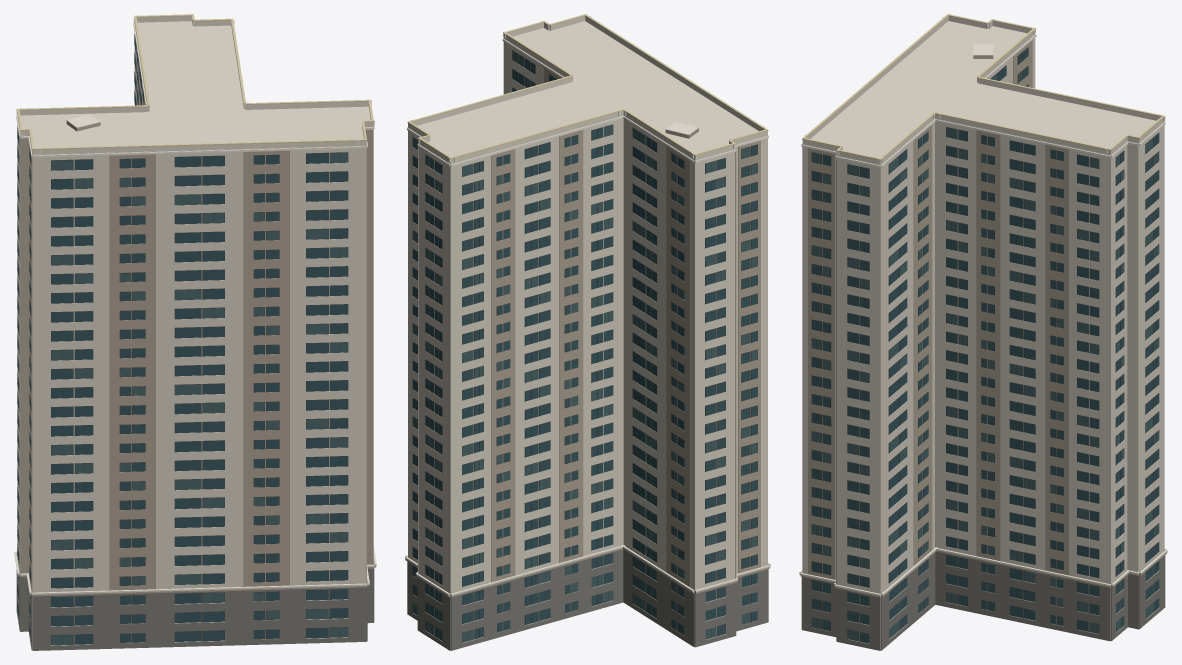
File: bespoke-raemian-prestige-121.glb
3 renders of one model, left to right at view 1: azimuth 30°, elevation 25°; view 2: azimuth 150°, elevation 25°; view 3: azimuth 270°, elevation 25°, orthographic. The views are drawn at different scales.
Parts seen in each view (by area): view 1: Prestige_warm_ivory_rendered_wall007, Prestige_wide_taupe_pilasters007, Prestige_recessed_blue_green_window007, Prestige_dark_bronze_thin_window_frame007, Prestige_dark_brown_grey_stone_base007, Prestige_muted_green_window_pair007, Prestige_pale_limestone_band007, Prestige_cream_gold_crown_coping007; view 2: Prestige_warm_ivory_rendered_wall007, Prestige_recessed_blue_green_window007, Prestige_wide_taupe_pilasters007, Prestige_dark_bronze_thin_window_frame007, Prestige_dark_brown_grey_stone_base007, Prestige_muted_green_window_pair007, Prestige_pale_limestone_band007, Prestige_cream_gold_crown_coping007; view 3: Prestige_warm_ivory_rendered_wall007, Prestige_recessed_blue_green_window007, Prestige_wide_taupe_pilasters007, Prestige_dark_bronze_thin_window_frame007, Prestige_dark_brown_grey_stone_base007, Prestige_muted_green_window_pair007, Prestige_pale_limestone_band007, Prestige_cream_gold_crown_coping007.
Boxes of the visible parts, x1,y1,x2,y2 form: Prestige_warm_ivory_rendered_wall007: (17,16,373,649); Prestige_wide_taupe_pilasters007: (16,61,376,643); Prestige_recessed_blue_green_window007: (17,40,347,644); Prestige_dark_bronze_thin_window_frame007: (17,34,348,645); Prestige_dark_brown_grey_stone_base007: (16,554,374,650); Prestige_muted_green_window_pair007: (17,34,347,645); Prestige_pale_limestone_band007: (14,19,376,594); Prestige_cream_gold_crown_coping007: (16,14,374,150); Prestige_warm_ivory_rendered_wall007: (408,16,767,646); Prestige_recessed_blue_green_window007: (412,59,757,640); Prestige_wide_taupe_pilasters007: (405,67,770,635); Prestige_dark_bronze_thin_window_frame007: (412,50,757,642); Prestige_dark_brown_grey_stone_base007: (407,549,768,650); Prestige_muted_green_window_pair007: (412,51,757,642); Prestige_pale_limestone_band007: (405,34,770,595); Prestige_cream_gold_crown_coping007: (407,14,768,159); Prestige_warm_ivory_rendered_wall007: (802,16,1164,650); Prestige_recessed_blue_green_window007: (812,47,1159,643); Prestige_wide_taupe_pilasters007: (799,40,1167,631); Prestige_dark_bronze_thin_window_frame007: (811,47,1159,642); Prestige_dark_brown_grey_stone_base007: (801,551,1165,650); Prestige_muted_green_window_pair007: (812,71,1159,641); Prestige_pale_limestone_band007: (799,28,1167,595); Prestige_cream_gold_crown_coping007: (802,14,1165,160).
Bounding box in the file's own units: 47.48 × 73.7 × 50.04.
